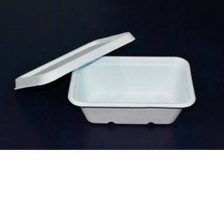plastic_box: (7, 27, 201, 133)
